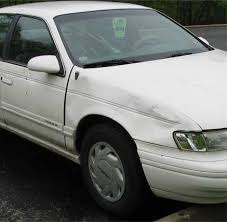Dent: (67, 76, 175, 138)
